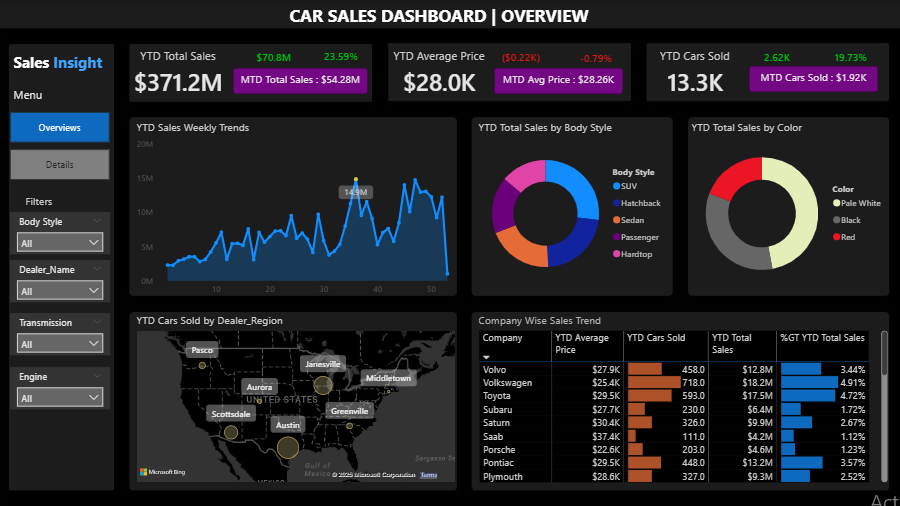

Layout of this report page (visuals, bound fields, positions):
{"tool":"powerbi","page":{"name":"Overviews","canvas":[1280,720],"ordinal":0},"visuals":[{"type":"card","title":"YTD Total Sales","fields":{"Values":["car_data.YTD Total Sales"]},"box":[178.6,68,155.9,75.1],"z":0},{"type":"card","fields":{"Values":["car_data.Sales Difference"]},"box":[354.3,68,76.5,25.5],"z":1000},{"type":"card","fields":{"Values":["car_data.YOY Sales Growth"]},"box":[449.3,68,76.5,28.3],"z":2000},{"type":"card","fields":{"Values":["car_data.MTD KPI"]},"box":[334.5,96.4,191.3,36.9],"z":3000},{"type":"card","title":"YTD Average Price","fields":{"Values":["car_data.YTD Average Price"]},"box":[548.5,68,155.9,75.1],"z":4000},{"type":"card","fields":{"Values":["car_data.Average Price Difference"]},"box":[704.4,68,76.5,25.5],"z":5000},{"type":"card","fields":{"Values":["car_data.YOY Avg Price Growth"]},"box":[810.7,69.4,76.5,25.5],"z":6000},{"type":"card","fields":{"Values":["car_data.MTD Average KPI"]},"box":[704.4,96.4,182.8,36.9],"z":7000},{"type":"card","title":"YTD Cars Sold","fields":{"Values":["car_data.YTD Cars Sold"]},"box":[911.3,68,155.9,75.1],"z":8000},{"type":"card","fields":{"Values":["car_data.Cars Sold Difference"]},"box":[1067.2,68,76.5,25.5],"z":9000},{"type":"card","fields":{"Values":["car_data.YOY Cars Sold Growth"]},"box":[1172.1,68,76.5,25.5],"z":10000},{"type":"card","fields":{"Values":["car_data.MTD Cars Sold KPI"]},"box":[1065.8,93.5,182.8,36.9],"z":11000},{"type":"areaChart","title":"YTD Sales Weekly Trends","fields":{"Category":["Calendar Table.Week"],"Y":["Sum(car_data.Price ($))","car_data.Max Point"]},"box":[192.8,170.1,460.6,258],"z":12000},{"type":"donutChart","fields":{"Category":["car_data.Body Style"],"Y":["car_data.YTD Total Sales"]},"box":[677.5,170.1,277.8,245.2],"z":13000},{"type":"donutChart","fields":{"Y":["car_data.YTD Total Sales"],"Category":["car_data.Color"]},"box":[979.4,170.1,287.7,245.2],"z":14000},{"type":"map","fields":{"Category":["car_data.Dealer_Region"],"Size":["car_data.YTD Cars Sold"]},"box":[192.8,443.6,460.6,245.2],"z":15000},{"type":"tableEx","title":"Company Wise Sales Trend","fields":{"Values":["car_data.Company","car_data.YTD Average Price","car_data.YTD Cars Sold","car_data.YTD Total Sales1","car_data.YTD Total Sales"]},"box":[677.5,443.6,589.6,245.2],"z":16000},{"type":"textbox","box":[409.7,0,460.6,42.5],"z":17000},{"type":"slicer","fields":{"Values":["car_data.Body Style"]},"box":[18.4,300.5,141.7,59.5],"z":18000},{"type":"slicer","fields":{"Values":["car_data.Dealer_Name"]},"box":[18.4,368.5,141.7,59.5],"z":19000},{"type":"slicer","fields":{"Values":["car_data.Transmission"]},"box":[18.4,443.6,141.7,59.5],"z":20000},{"type":"slicer","fields":{"Values":["car_data.Engine"]},"box":[18.4,520.2,141.7,59.5],"z":21000},{"type":"textbox","box":[35.4,269.3,53.9,29.8],"z":22000},{"type":"textbox","box":[18.4,68,141.7,42.5],"z":23000},{"type":"textbox","box":[18.4,117.6,59.5,31.2],"z":24000},{"type":"pageNavigator","box":[18.4,158.7,141.7,96.4],"z":25000}]}

Visuals, with their boxes on the page's 1280x720 design canvas (x1, y1, x2, y2). These are canvas units, not pixel positions in the 900x506 screenshot, which may show the page scaled, cropped or inside an application window:
"YTD Total Sales" card: [179,68,334,143]
card - car_data.Sales Difference: [354,68,431,94]
card - car_data.YOY Sales Growth: [449,68,526,96]
card - car_data.MTD KPI: [334,96,526,133]
"YTD Average Price" card: [548,68,704,143]
card - car_data.Average Price Difference: [704,68,781,94]
card - car_data.YOY Avg Price Growth: [811,69,887,95]
card - car_data.MTD Average KPI: [704,96,887,133]
"YTD Cars Sold" card: [911,68,1067,143]
card - car_data.Cars Sold Difference: [1067,68,1144,94]
card - car_data.YOY Cars Sold Growth: [1172,68,1249,94]
card - car_data.MTD Cars Sold KPI: [1066,94,1249,130]
"YTD Sales Weekly Trends" areaChart: [193,170,653,428]
donutChart - car_data.Body Style x car_data.YTD Total Sales: [678,170,955,415]
donutChart - car_data.YTD Total Sales x car_data.Color: [979,170,1267,415]
map - car_data.Dealer_Region x car_data.YTD Cars Sold: [193,444,653,689]
"Company Wise Sales Trend" tableEx: [678,444,1267,689]
textbox: [410,0,870,42]
slicer - car_data.Body Style: [18,300,160,360]
slicer - car_data.Dealer_Name: [18,368,160,428]
slicer - car_data.Transmission: [18,444,160,503]
slicer - car_data.Engine: [18,520,160,580]
textbox: [35,269,89,299]
textbox: [18,68,160,110]
textbox: [18,118,78,149]
pageNavigator: [18,159,160,255]
